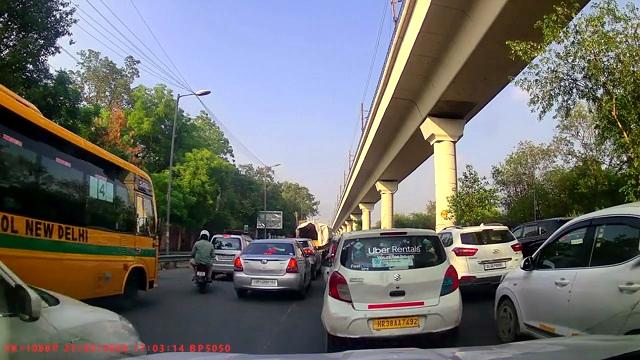passenger_with_helmet: (189, 228, 216, 293)
